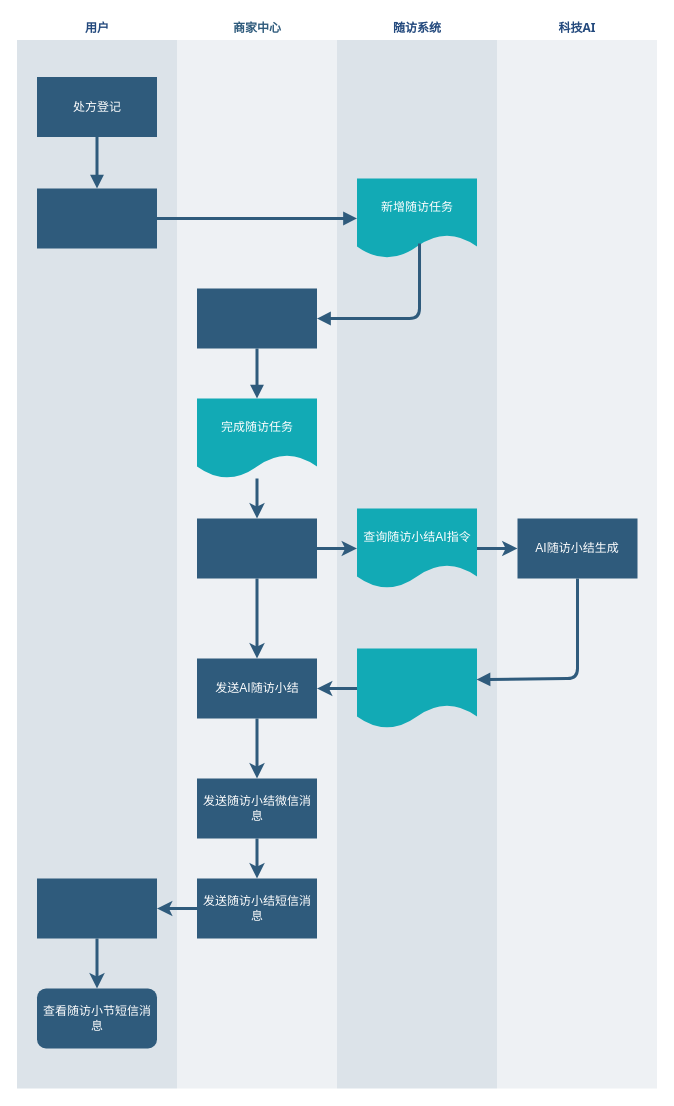
Image size: 674x1106. Some labels were removed from this diagram. The box of each missing label's shape, as (x1, y1, x2, y2) in pixels:
保存AI随访小结: (356, 648, 476, 728)
查看随访任务: (196, 288, 316, 348)
查看随访小节微信消息: (36, 878, 156, 938)
购药下单: (36, 188, 156, 248)
随访小结引导: (196, 518, 316, 578)
